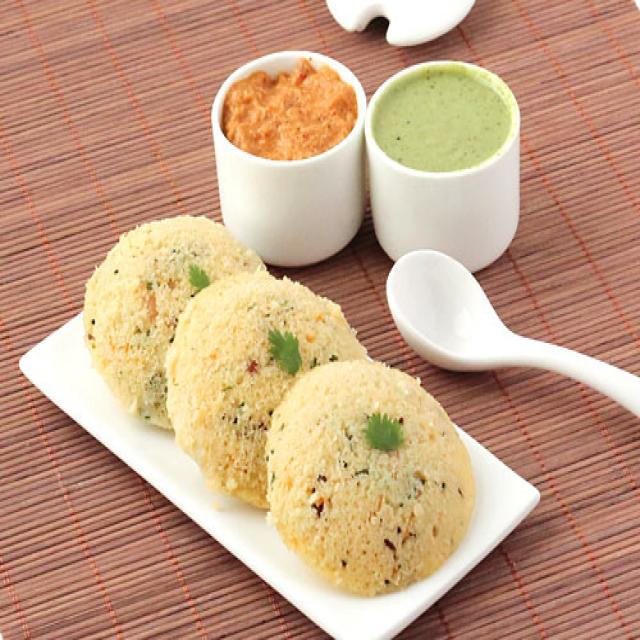rave idli: (260, 357, 476, 614), (151, 271, 354, 514), (81, 205, 252, 423)
